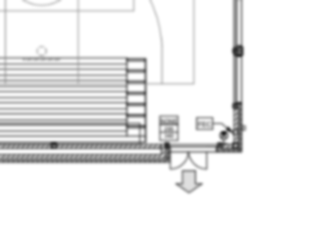double door: (169, 151, 209, 171)
wall: (1, 142, 163, 151), (1, 153, 167, 160), (232, 104, 240, 148)
